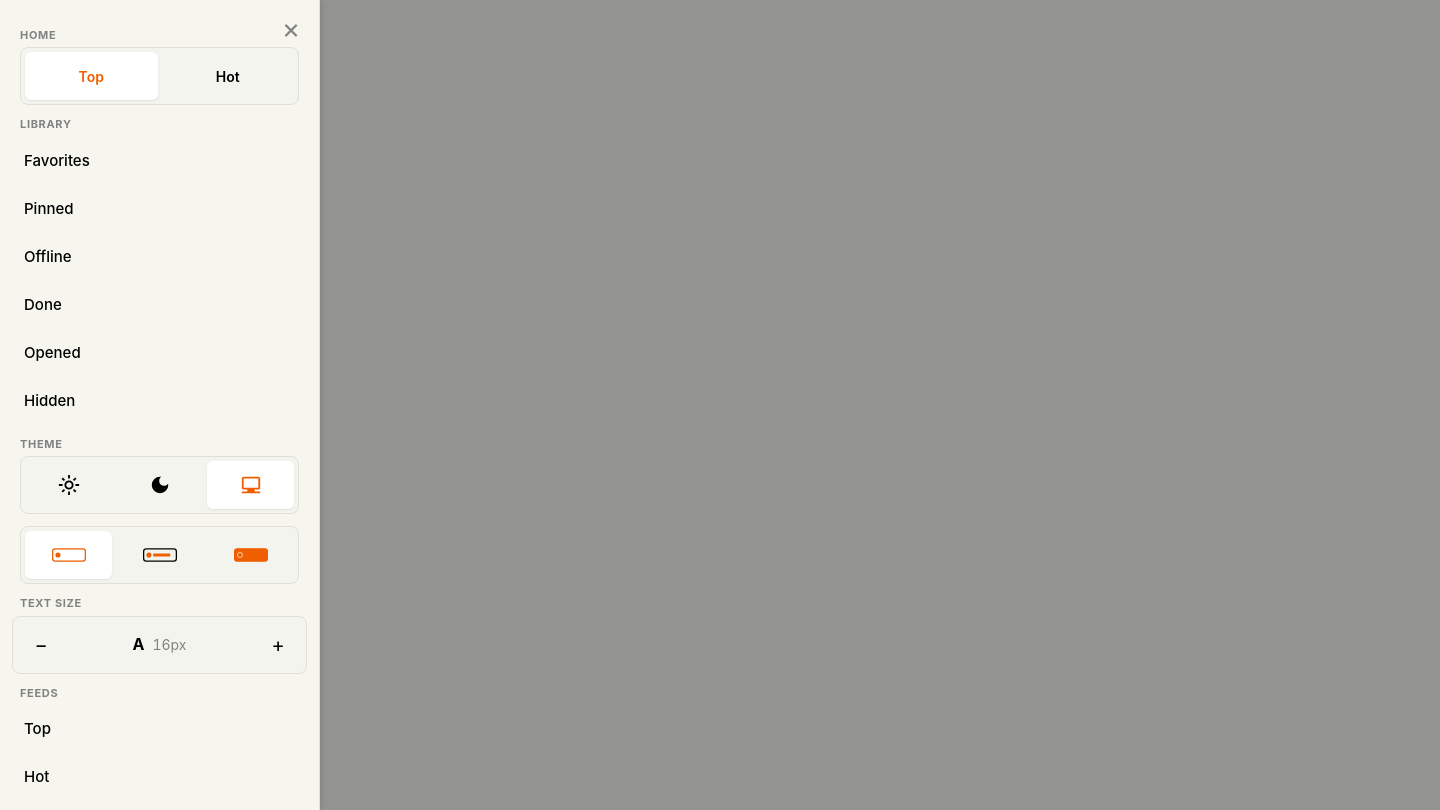
Test: <AppDrawer> › steps the text size from the drawer
Click the button named "Larger text".
click(278, 645)  # box top-left (254, 621), bottom-right (302, 669)
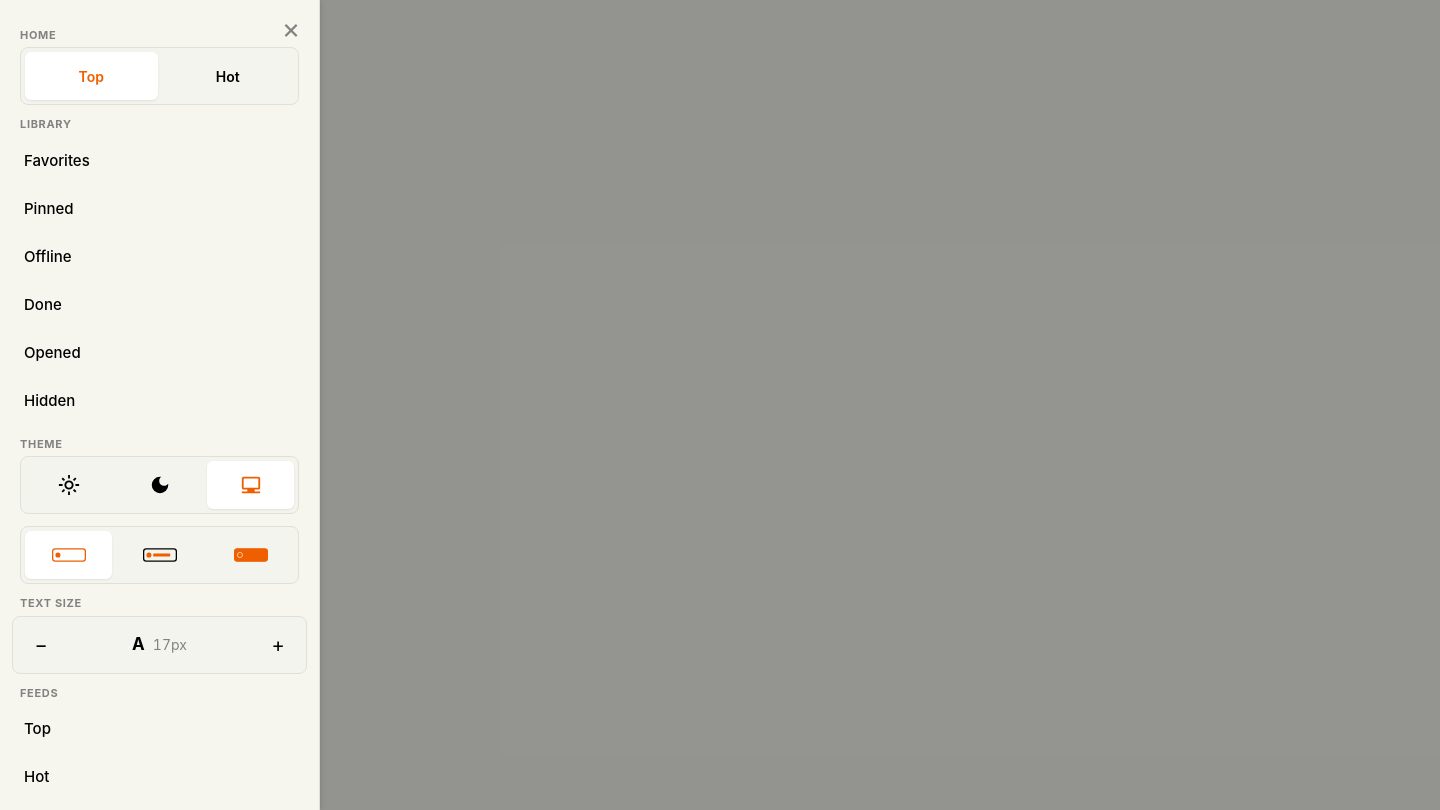
Check: the text "17px" is shown, box top-left (153, 635), bottom-right (187, 654)
Click the button named "Smaller text".
click(41, 645)  # box top-left (17, 621), bottom-right (65, 669)
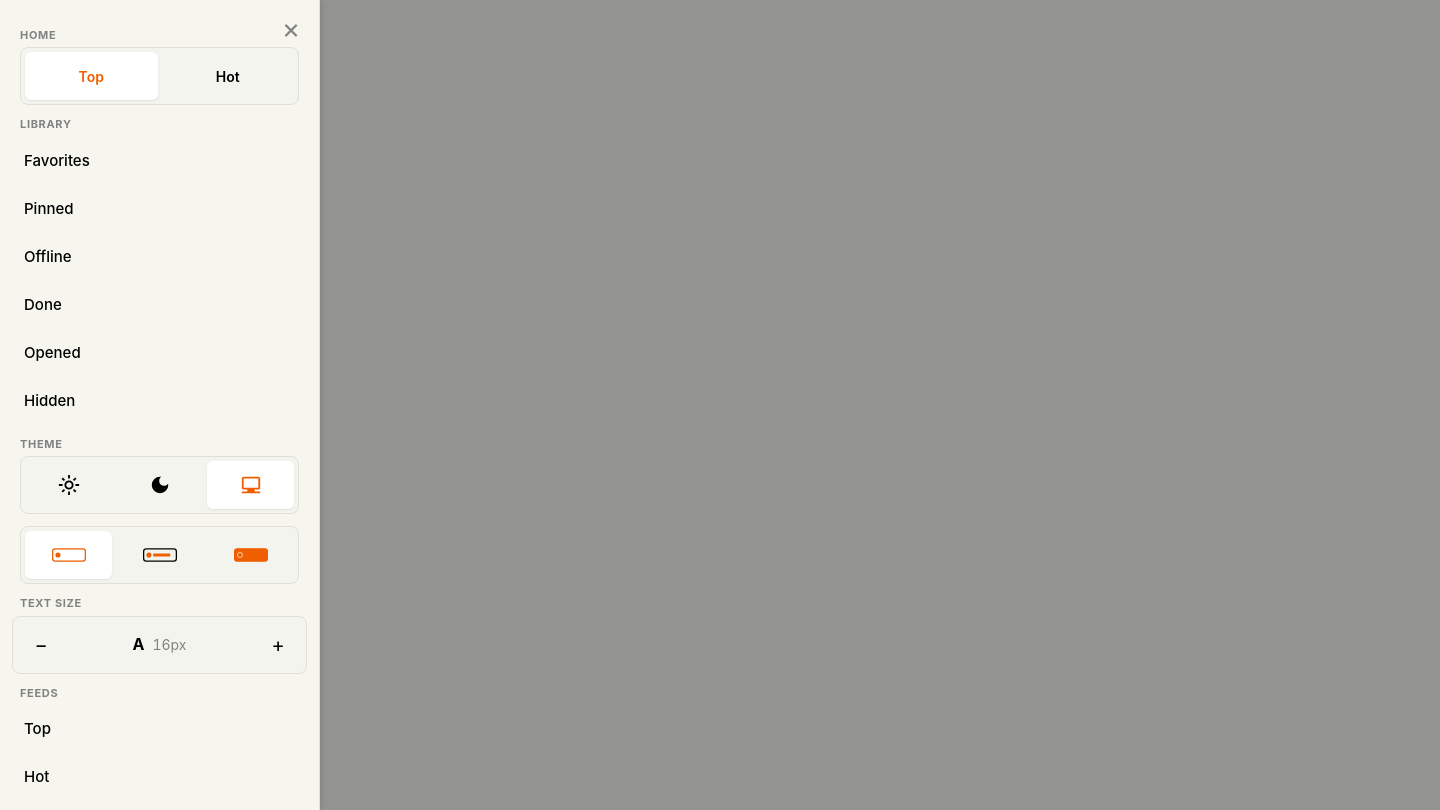
Check: the text "16px" is shown, box top-left (152, 635), bottom-right (186, 654)
